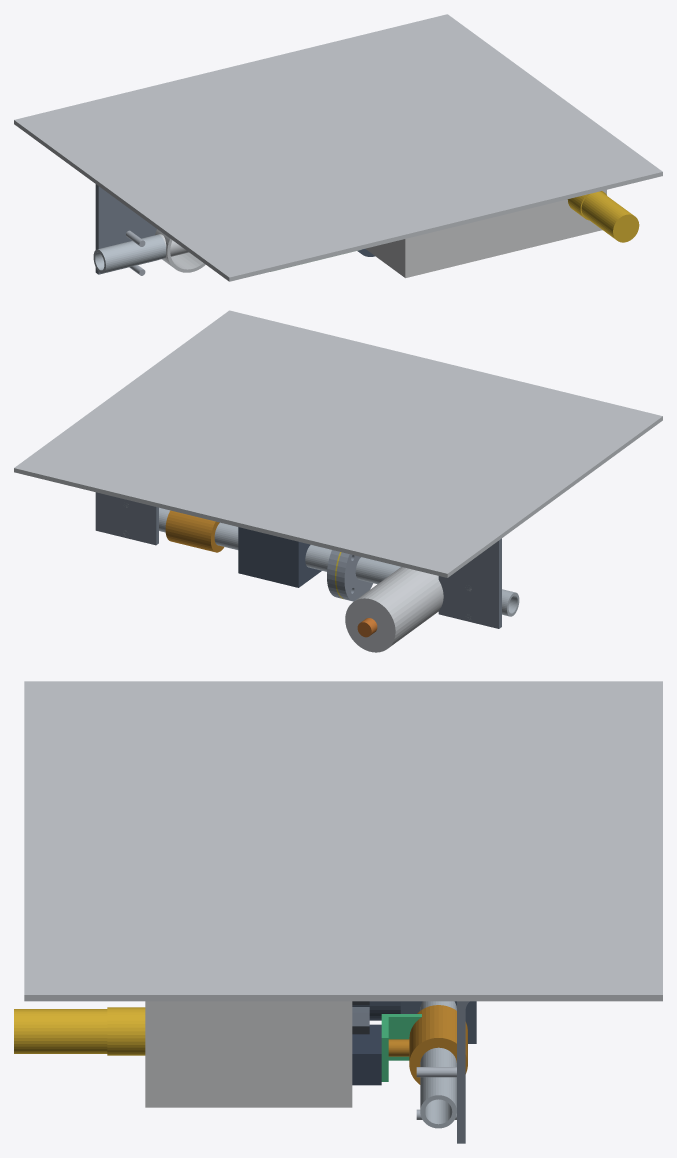
The model's file is FD1_full_assembly_colour.glb.
3 views of the same model, one above another, from view 1: azimuth 30°, elevation 25°; view 2: azimuth 150°, elevation 25°; view 3: azimuth 270°, elevation 25° (orthographic). The views are drawn at different scales.
Visible parts, largest first — view 1: backplate, electronics_enclosure, pipe_bracket_A, stack_light, line_pipework, condensate_trap; view 2: backplate, condensate_trap, pipe_bracket_A, isolation_solenoid, line_pipework, pipe_bracket_B, throttle_ball_valve, flange_upstream; view 3: backplate, electronics_enclosure, stack_light, throttle_ball_valve, line_pipework, throttle_servo, servo_bracket, pipe_bracket_B, isolation_solenoid.
Boxes of the visible parts, x1,y1,x2,y2 form: backplate: [14, 14, 662, 281]; electronics_enclosure: [365, 190, 606, 278]; pipe_bracket_A: [95, 184, 156, 274]; stack_light: [567, 191, 639, 242]; line_pipework: [93, 234, 166, 273]; condensate_trap: [155, 229, 205, 272]; backplate: [14, 310, 662, 577]; condensate_trap: [345, 567, 443, 652]; pipe_bracket_A: [438, 538, 501, 628]; isolation_solenoid: [238, 527, 321, 587]; line_pipework: [159, 507, 519, 616]; pipe_bracket_B: [95, 492, 158, 545]; throttle_ball_valve: [165, 510, 224, 552]; flange_upstream: [336, 552, 372, 601]; backplate: [24, 681, 662, 1001]; electronics_enclosure: [145, 1001, 352, 1107]; stack_light: [14, 1007, 145, 1055]; throttle_ball_valve: [388, 1005, 467, 1084]; line_pipework: [420, 1001, 456, 1128]; throttle_servo: [352, 1024, 381, 1085]; servo_bracket: [381, 1014, 421, 1081]; pipe_bracket_B: [457, 1001, 469, 1143]; isolation_solenoid: [352, 1001, 476, 1043].
Bounding box in the file's own units: 430 × 114 × 376.
